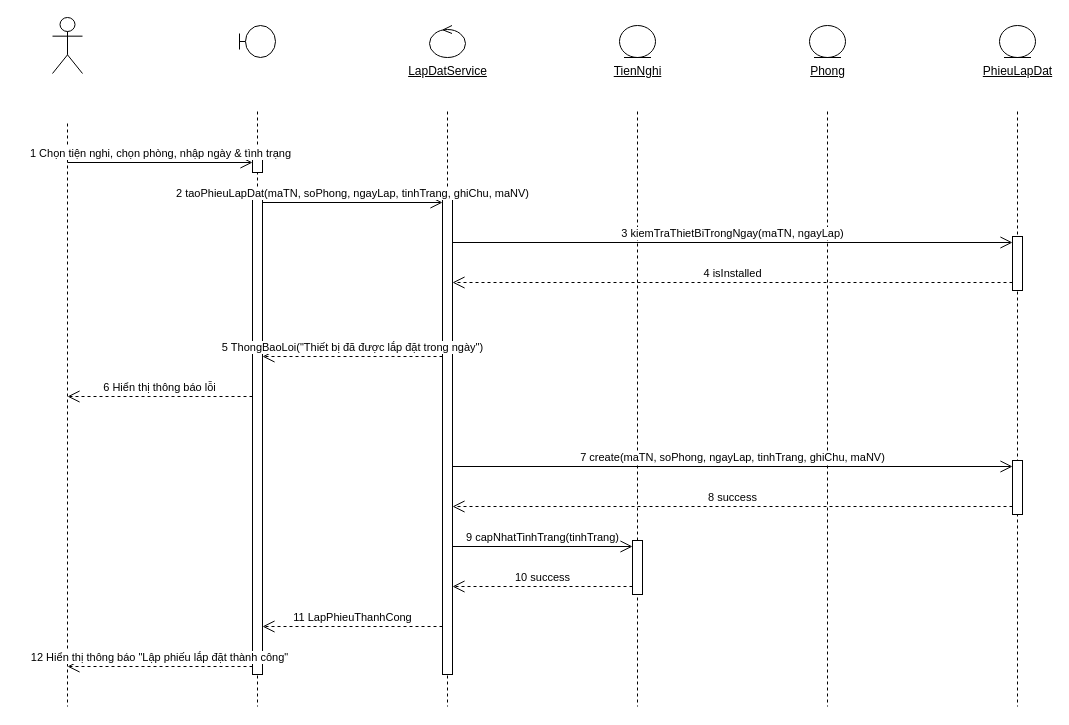
The diagram is 1069 pixels wide and 725 high, and some of its shapes have lost their labels. The box of each missing label's shape, as (x1, y1, x2, y2) in pixels:
FrmLapPhieuLapDat: (238, 24, 276, 58)
NV Phục vụ phòng: (52, 16, 82, 74)
